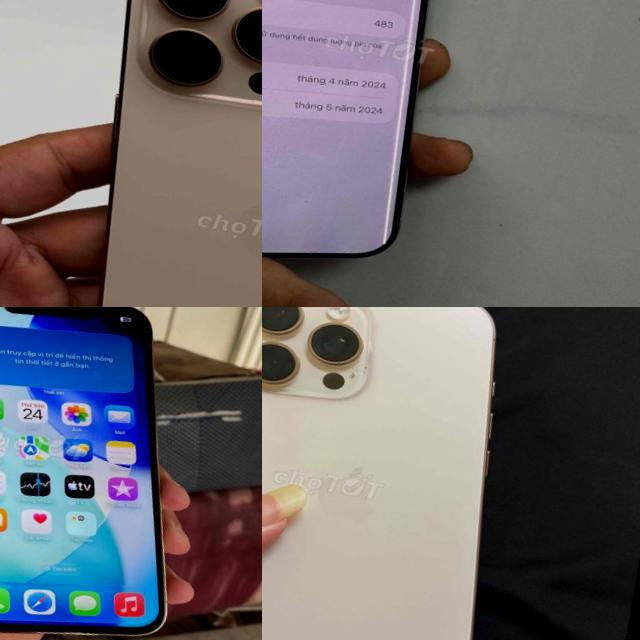gen_12_13: (0, 307, 223, 640)
gen_15: (262, 0, 488, 305)
gen_16: (262, 307, 547, 640), (26, 0, 262, 307)
